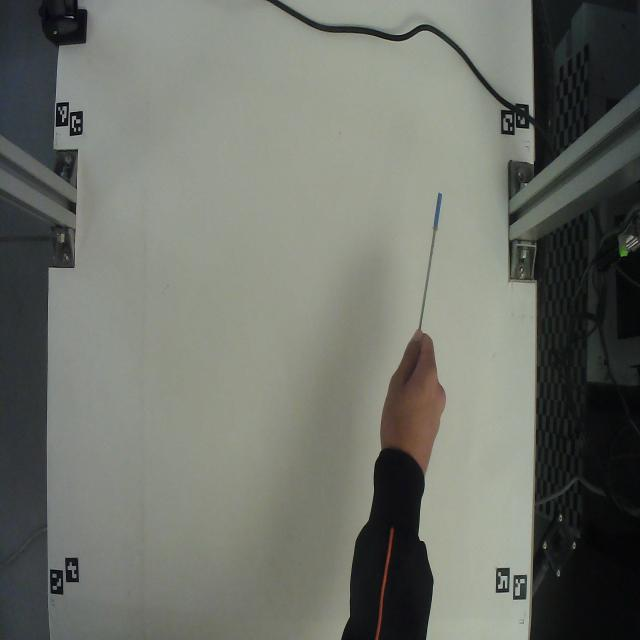NoPres: (409, 175, 459, 343)
